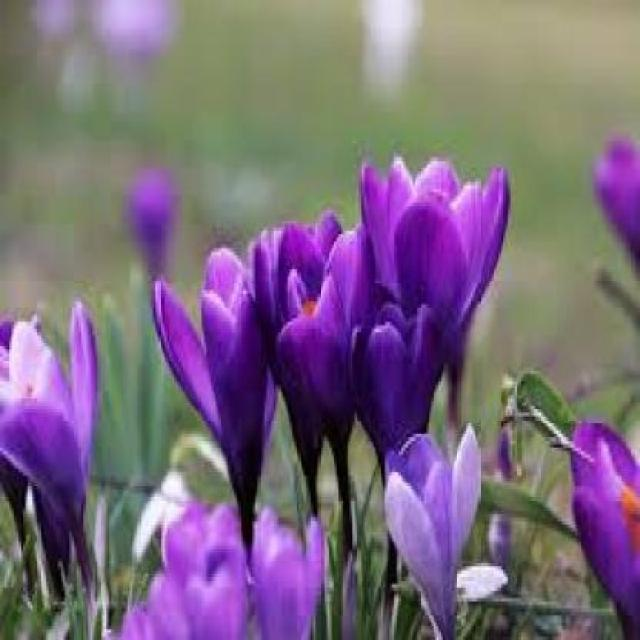saffron open: (362, 160, 509, 427), (154, 250, 270, 541), (1, 301, 99, 602), (386, 426, 480, 639), (358, 304, 444, 467)
